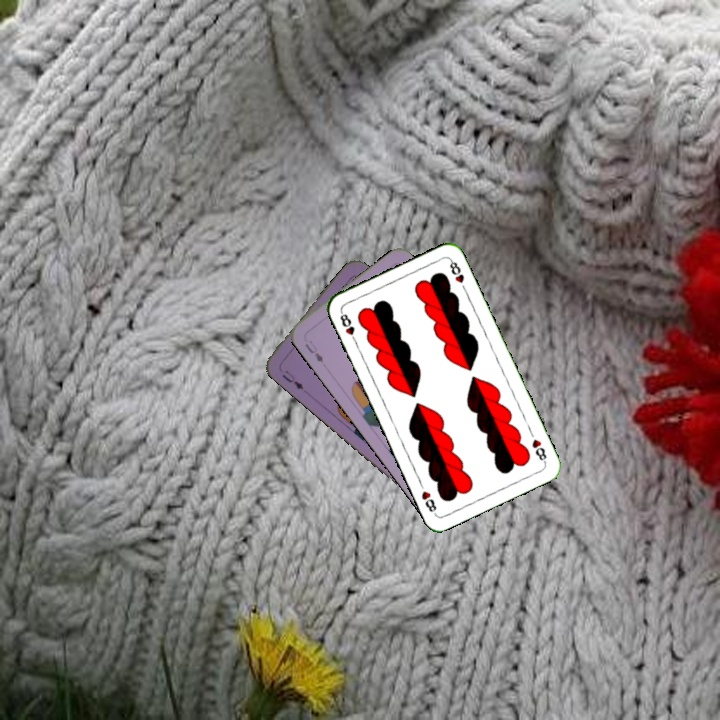EU: (278, 366, 306, 392), (301, 337, 326, 366)
H8: (336, 307, 360, 346), (528, 435, 549, 466)
